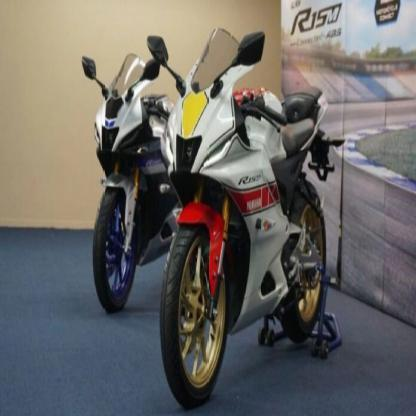Motorcycle: (152, 24, 336, 409), (77, 26, 177, 319)
